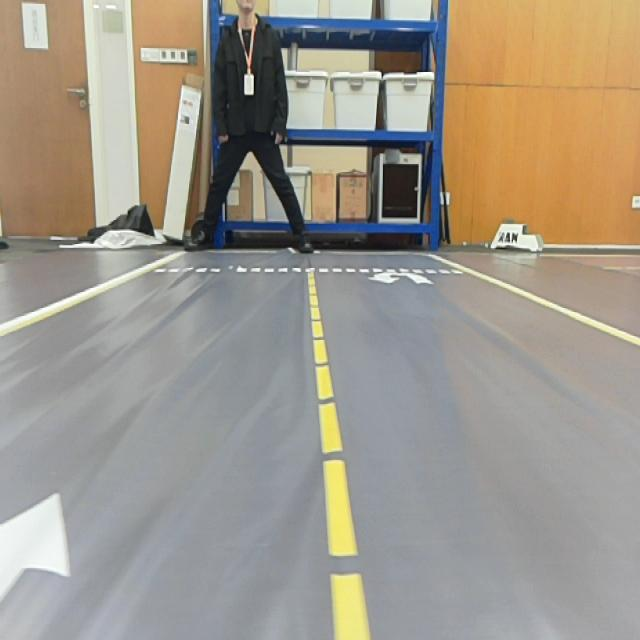left_lane: (306, 269, 369, 640)
right_lane: (449, 260, 640, 348), (1, 250, 184, 334)
